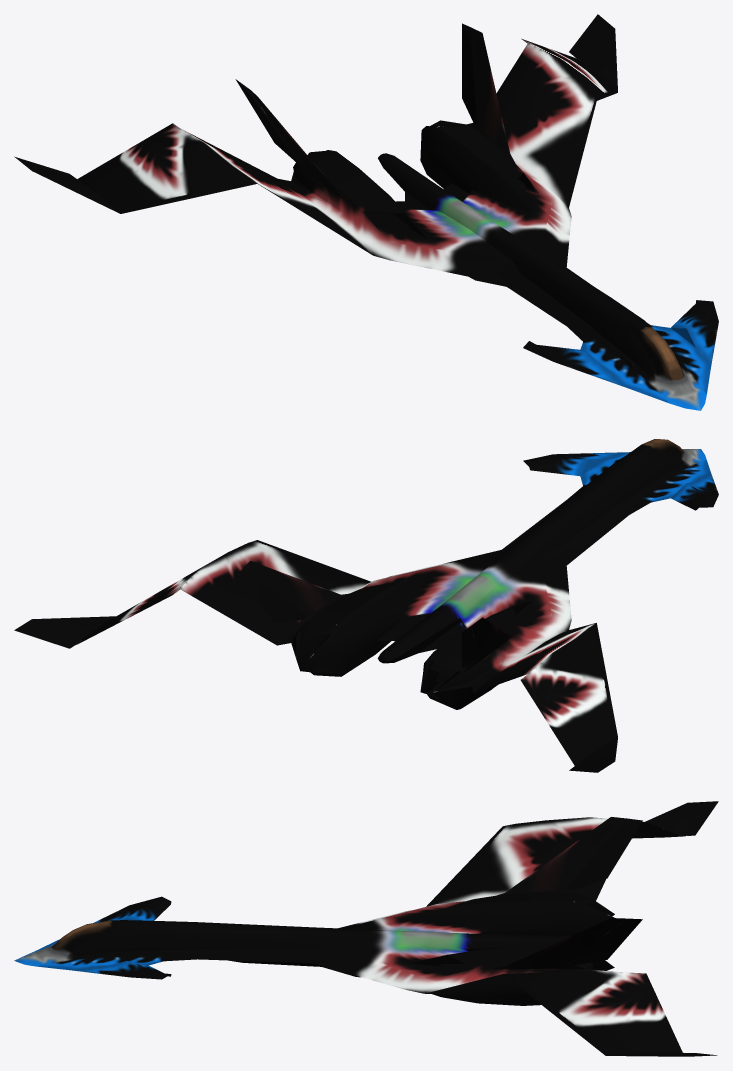
File: EnemyBossComplete.fbx
The picture shows the model from 3 angles, top to bottom: view 1: azimuth 30°, elevation 25°; view 2: azimuth 150°, elevation 25°; view 3: azimuth 270°, elevation 25°; orthographic projection. The views are drawn at different scales.
Parts seen in each view (by area): view 1: gaf-1; view 2: gaf-1; view 3: gaf-1.
Part boxes in pixels (x1,y1,x2,y2): gaf-1: (14, 14, 718, 410); gaf-1: (14, 439, 718, 772); gaf-1: (14, 801, 718, 1056).
Size of the model in its own units: 21.53 by 25.23 by 4.21.
